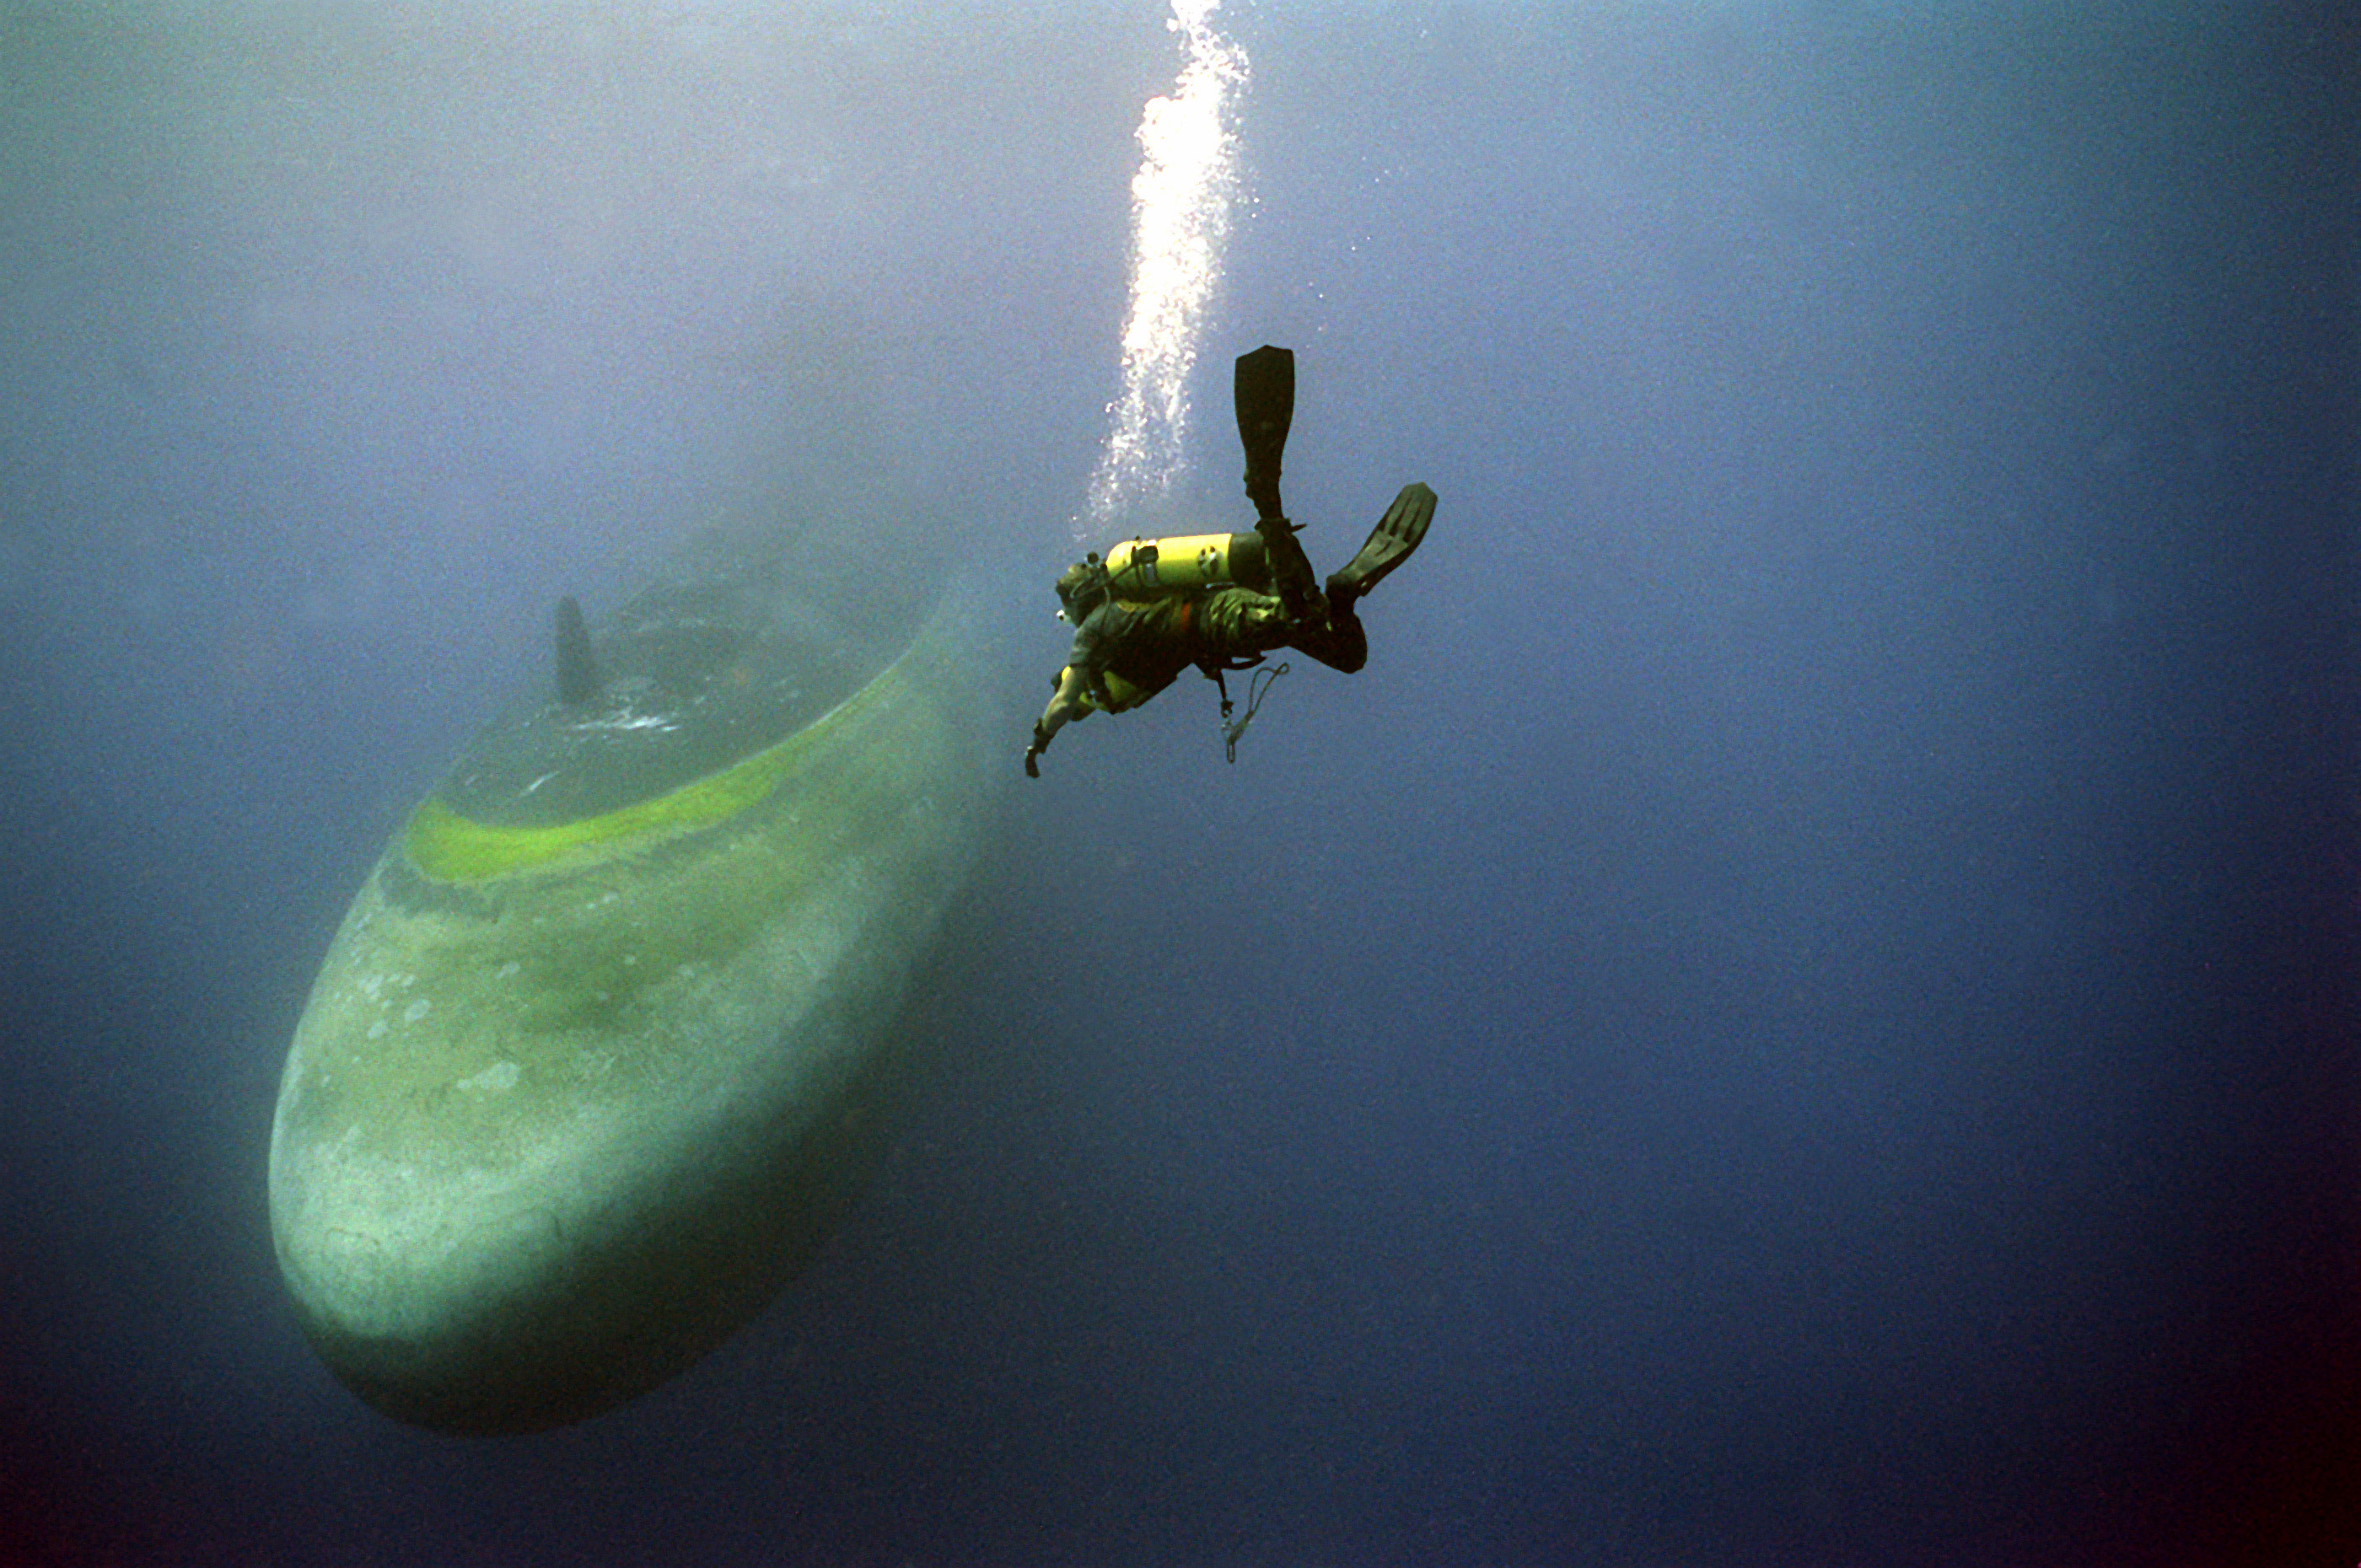Divers: (992, 333, 1514, 795)
ROV: (266, 499, 984, 1431)
